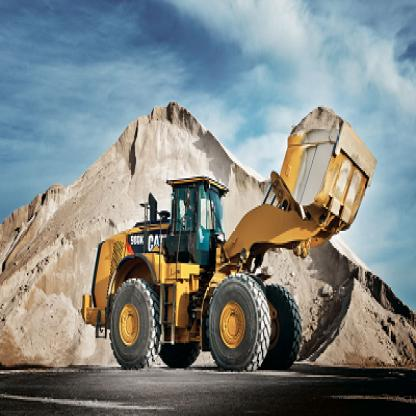bull_dozer/loader/grader: (77, 98, 383, 376)
